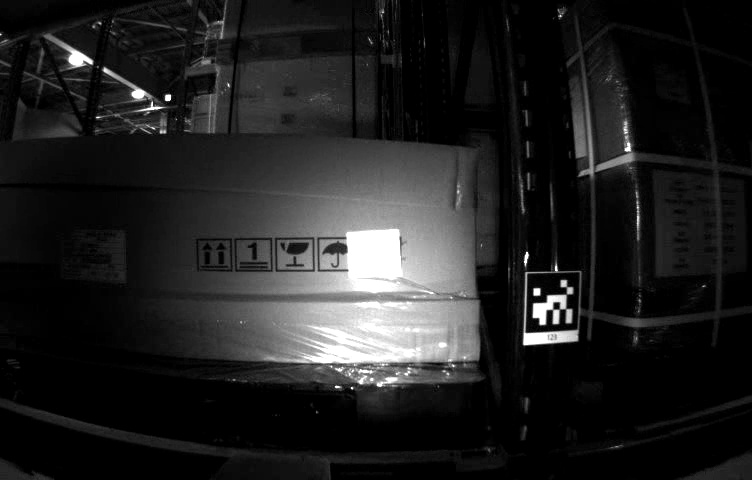True Barcode: (347, 228, 400, 278), (651, 59, 686, 101)
